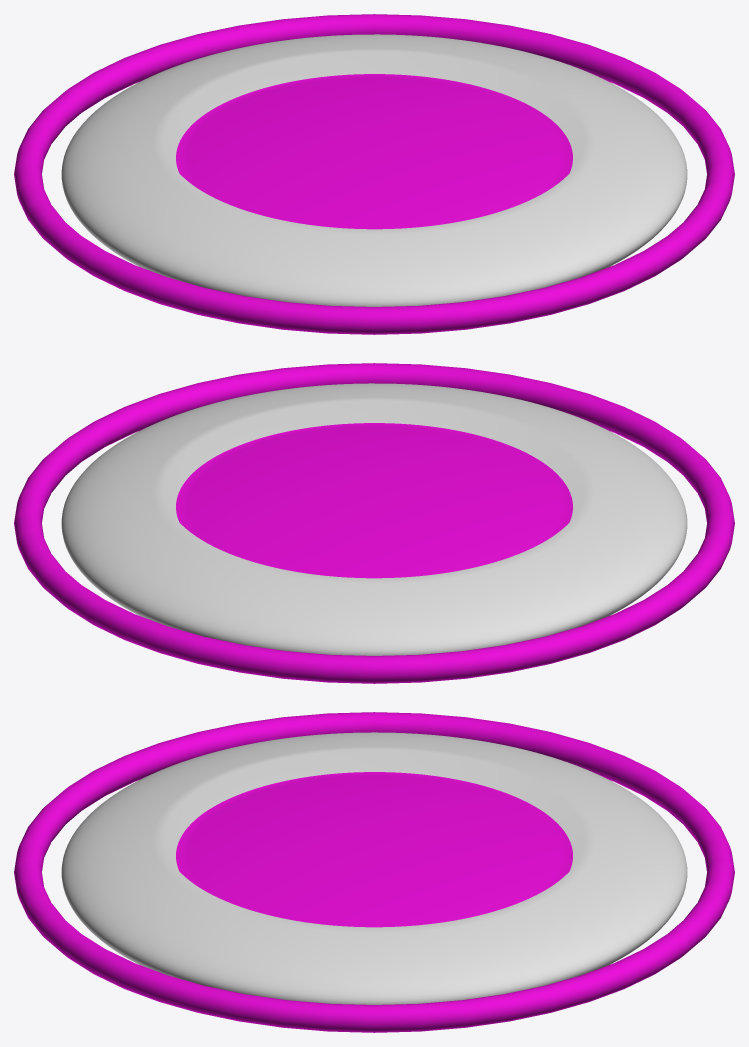
File: Purple.gltf
The picture shows the model from 3 angles, top to bottom: view 1: azimuth 30°, elevation 25°; view 2: azimuth 150°, elevation 25°; view 3: azimuth 270°, elevation 25°; orthographic projection.
Parts seen in each view (by area): view 1: Sphere; view 2: Sphere; view 3: Sphere.
Boxes of the visible parts, x1,y1,x2,y2 form: Sphere: (14, 14, 734, 334); Sphere: (14, 363, 734, 683); Sphere: (14, 712, 734, 1032).
Size of the model in its own units: 6.2 by 0.7614 by 6.2.
